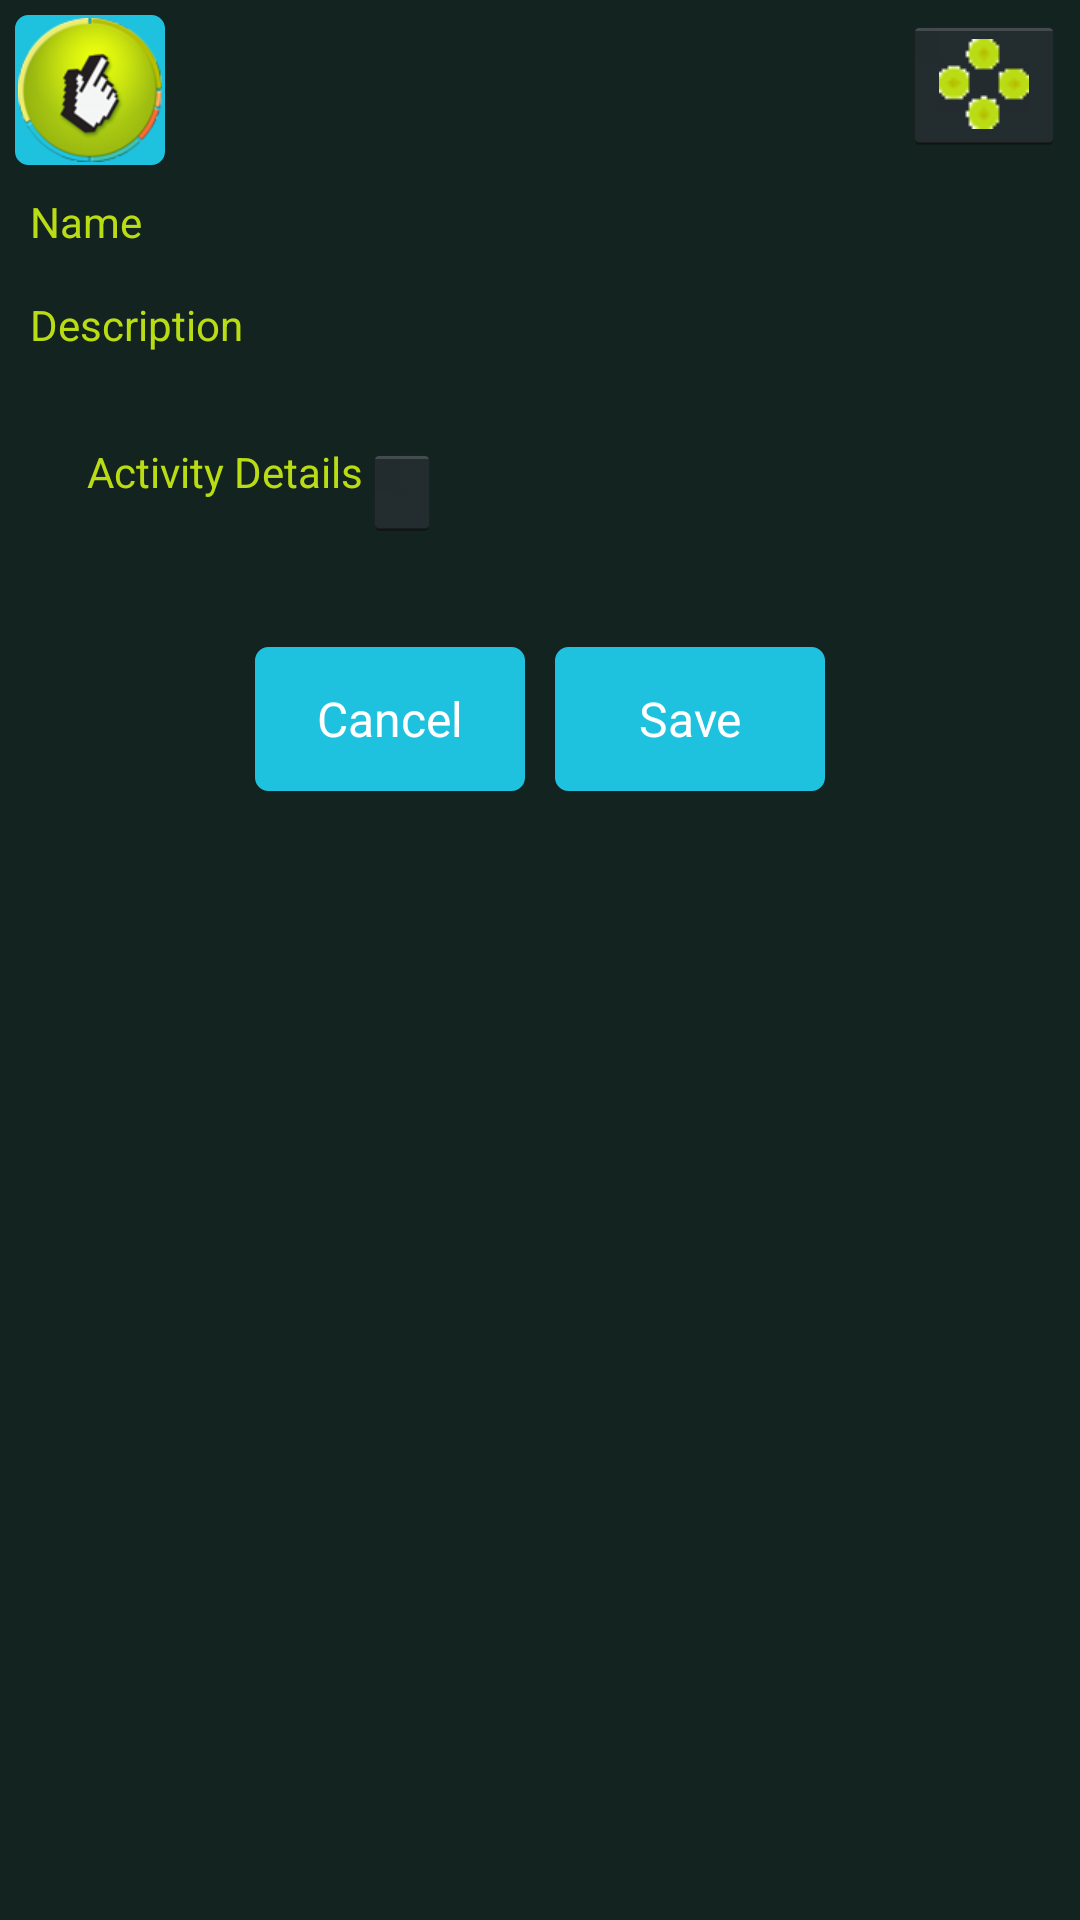

Where to tap for icons on this 1080x1920 app screen, as [x,y]:
pad: [984,86]
